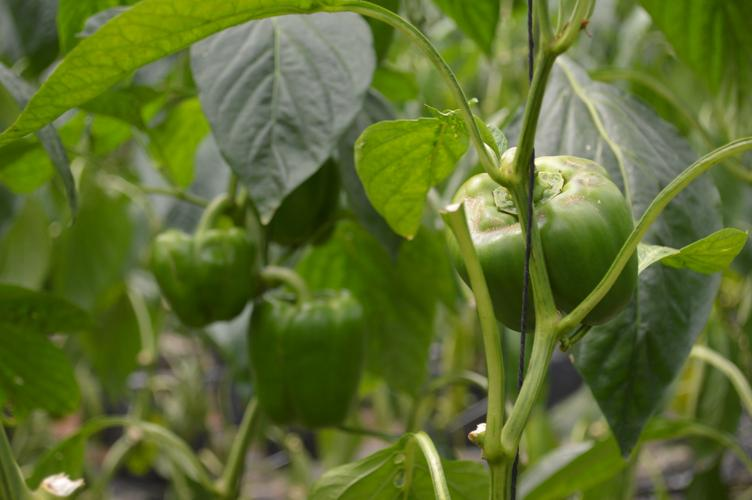BellPepper: (449, 155, 636, 336), (245, 289, 362, 425), (148, 227, 254, 330), (253, 151, 338, 253)
